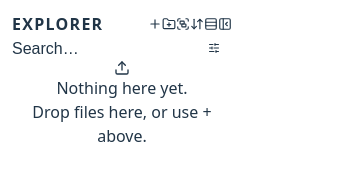
Scenario: ExplorerPanel › points to the + menu when the explorer is empty, and the menu draws the shared groups
Expected: the element with class "ex-blank" shows "use + above", [32,101,212,147]
Click the button named "New or import".
click(155, 24)  # box [148,17,162,31]
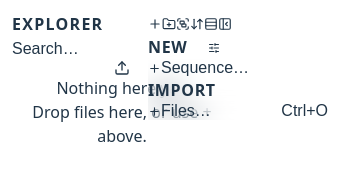
Click the menu item with class "ctx-menu-item" showing "Sequence…".
click(238, 68)  # box [148,59,328,77]
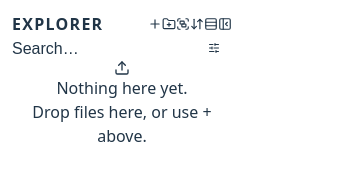
Now the text with class "menu-group-label" is gone
